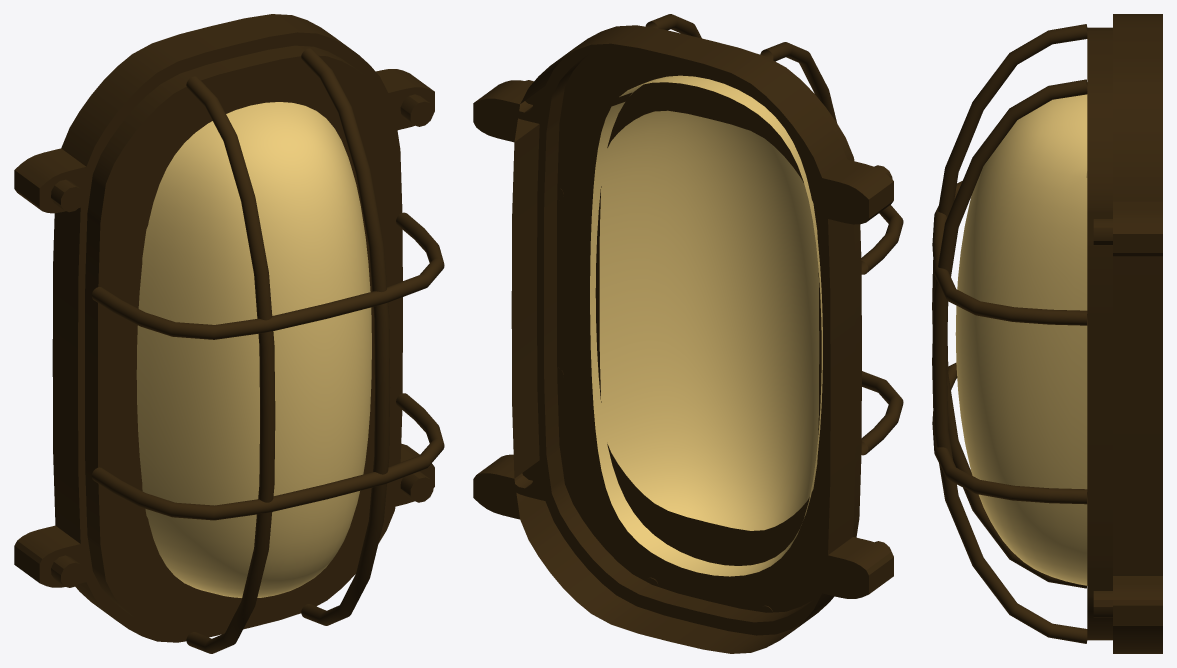
Rendered from IndustrialLight.fbx.
3 renders of one model, left to right at view 1: azimuth 30°, elevation 25°; view 2: azimuth 150°, elevation 25°; view 3: azimuth 270°, elevation 25°, orthographic.
Parts seen in each view (by area): view 1: Circle; view 2: Circle; view 3: Circle.
Part boxes in pixels (<box>): Circle: <box>14,14,444,653</box>; Circle: <box>473,14,903,653</box>; Circle: <box>932,14,1162,653</box>.
Bounding box in the file's own units: 229 × 325 × 117.
